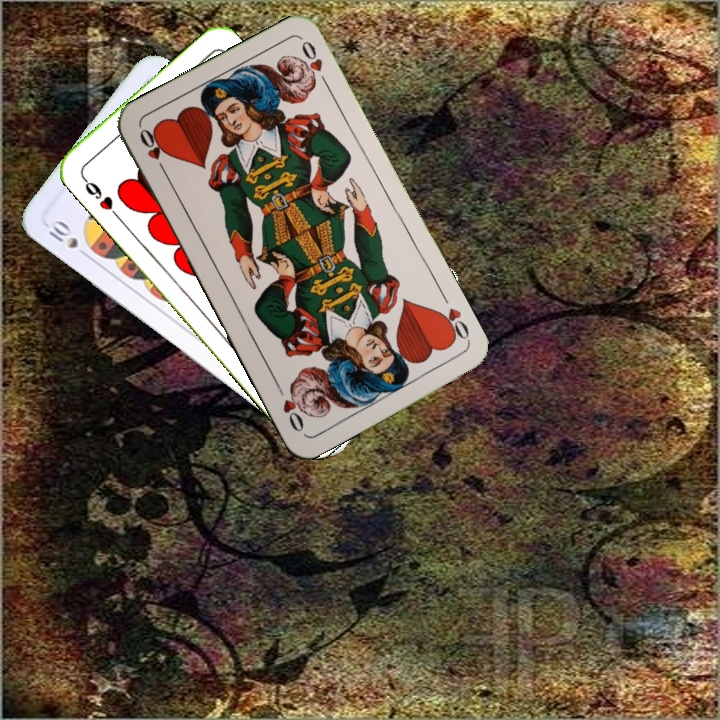H9: (77, 171, 121, 220)
HO: (135, 124, 171, 179), (433, 303, 473, 345)
S10: (44, 216, 93, 261)
